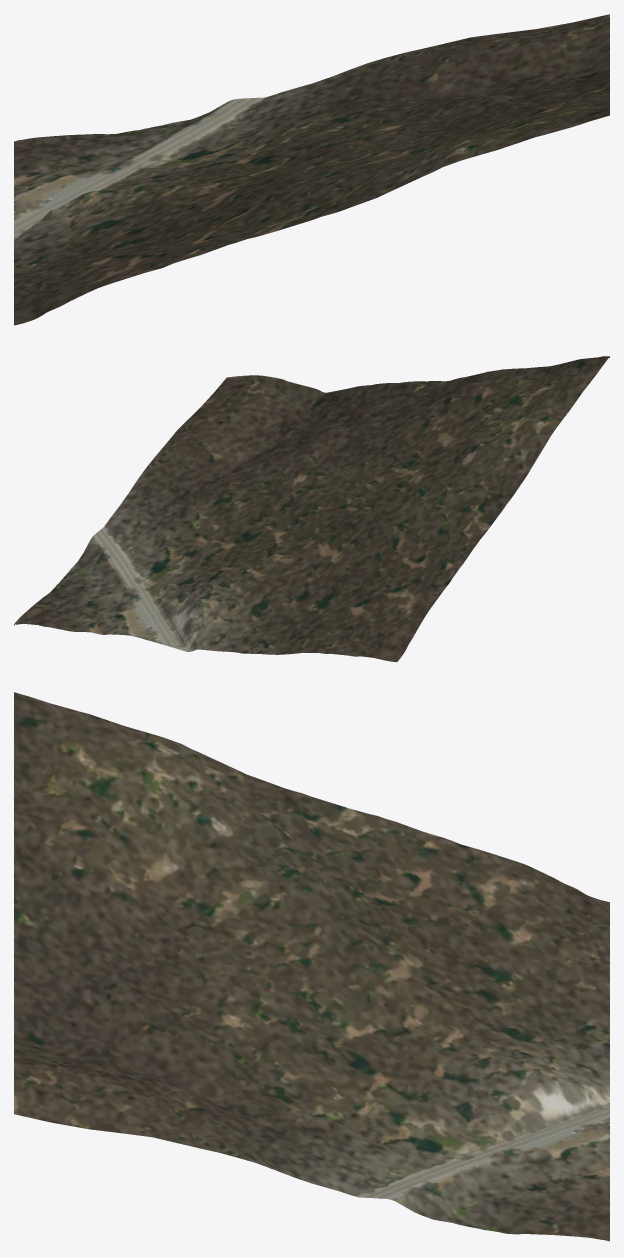
3 renders of one model, top to bottom at view 1: azimuth 90°, elevation 25°; view 2: azimuth 150°, elevation 25°; view 3: azimuth 270°, elevation 25°, orthographic. The views are drawn at different scales.
Bounding box in the file's own units: 250 × 129 × 241.
Materials: 1 (1 with a texture image).
